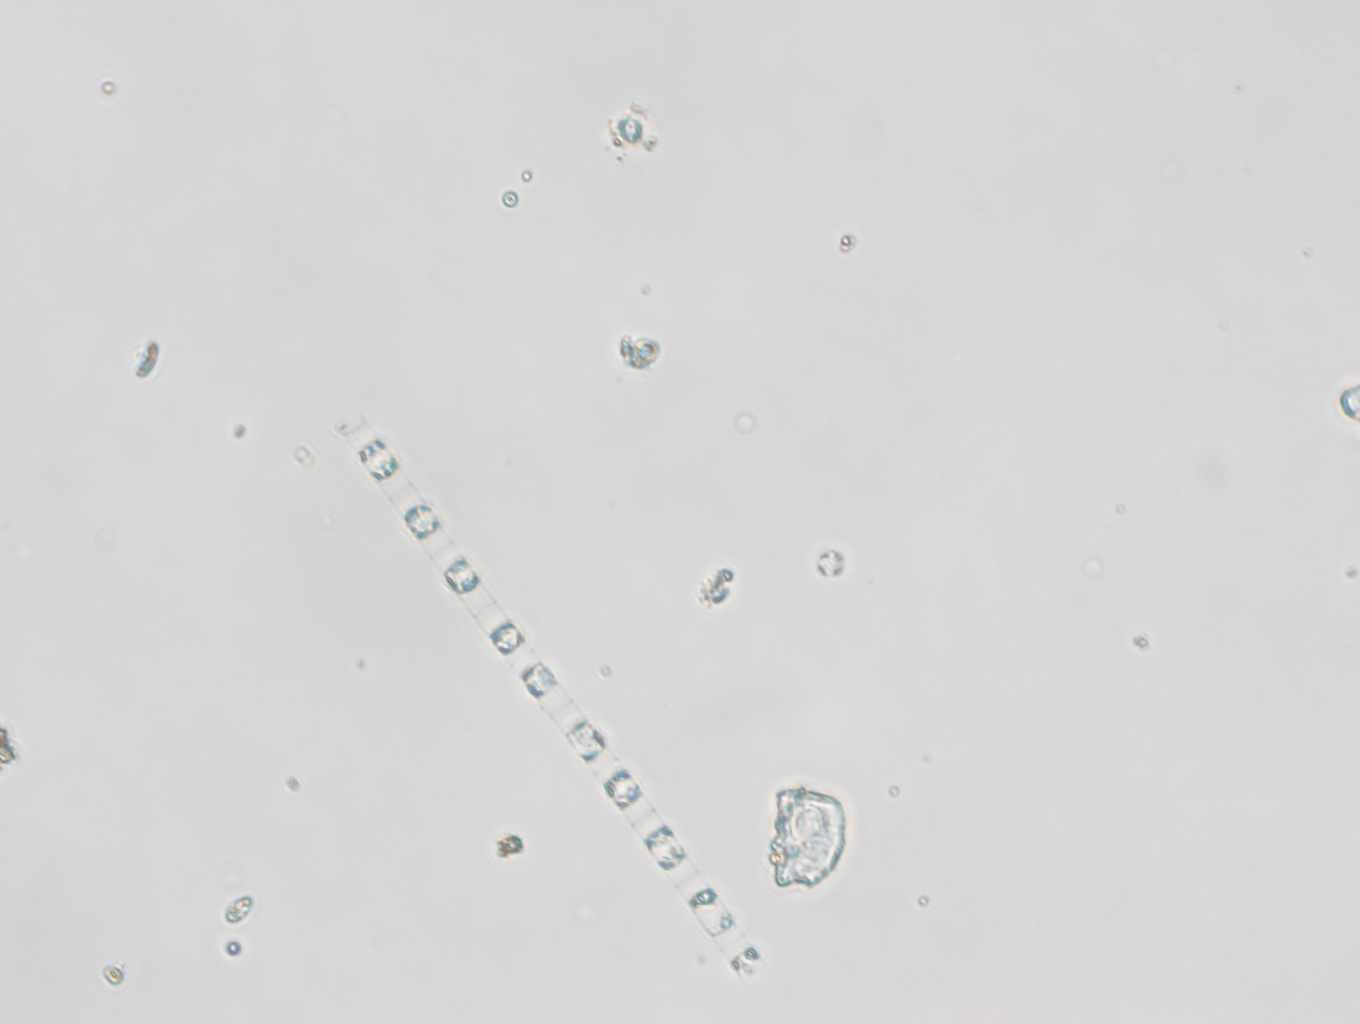skeletonema: (325, 410, 775, 990)
